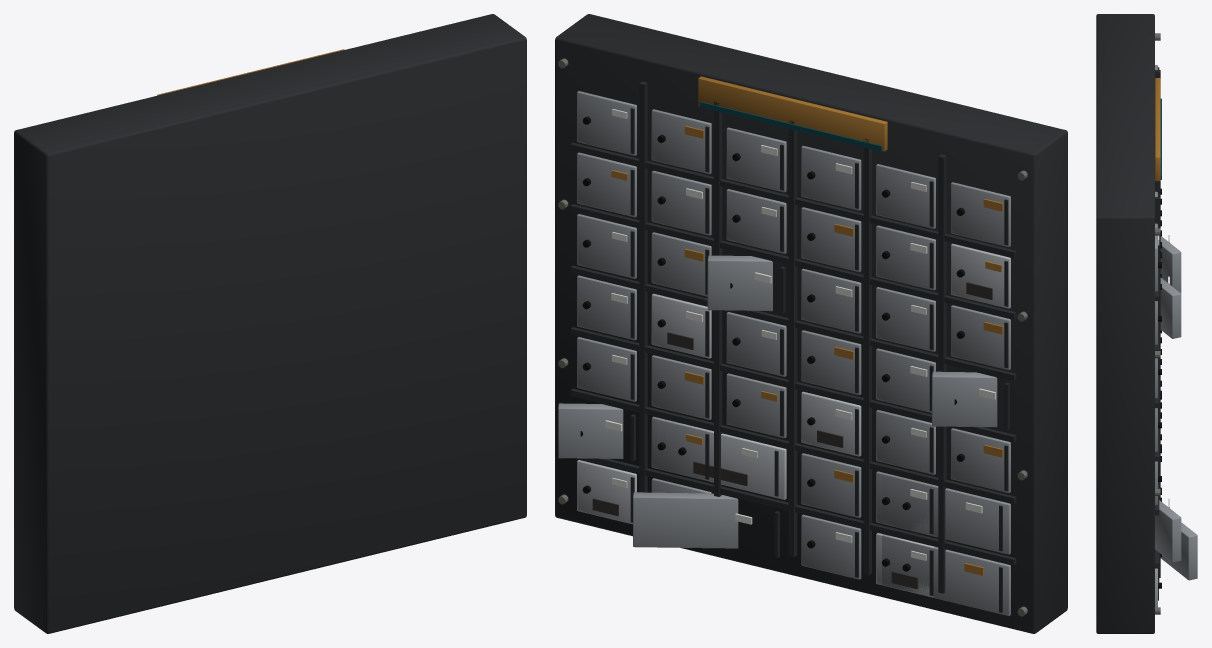
The model's file is hm_bank_deposit_boxes_v2.obj.
3 views of the same model, side by side, from view 1: azimuth 30°, elevation 25°; view 2: azimuth 150°, elevation 25°; view 3: azimuth 270°, elevation 25° (orthographic). The views are drawn at different scales.
Parts seen in each view (by area): view 1: DB_Frame; view 2: DB_Frame, DB_Door_3, DB_Door_6, DB_Door_0, DB_Plaque, DB_Div_3, DB_Div_2, DB_Div_5, DB_Rail_2, DB_Rail_6, DB_Rail_5, DB_Door_27 (+41 smaller); view 3: DB_Frame, DB_Door_11, DB_Door_27, DB_Door_3, DB_Door_18, DB_Div_5, DB_Plaque, DB_Door_41.
Part boxes in pixels (x1=…): DB_Frame: x1=14, y1=14, x2=526, y2=633; DB_Frame: x1=555, y1=14, x2=1067, y2=633; DB_Door_3: x1=633, y1=492, x2=738, y2=548; DB_Door_6: x1=882, y1=472, x2=1010, y2=554; DB_Door_0: x1=882, y1=534, x2=1010, y2=615; DB_Plaque: x1=698, y1=76, x2=887, y2=151; DB_Div_3: x1=788, y1=120, x2=797, y2=557; DB_Div_2: x1=863, y1=139, x2=871, y2=575; DB_Div_5: x1=639, y1=81, x2=647, y2=492; DB_Rail_2: x1=570, y1=388, x2=1016, y2=503; DB_Rail_6: x1=570, y1=142, x2=1016, y2=257; DB_Rail_5: x1=570, y1=204, x2=1016, y2=319; DB_Door_27: x1=707, y1=255, x2=772, y2=311; DB_Frame: x1=1096, y1=14, x2=1154, y2=633; DB_Door_11: x1=1155, y1=500, x2=1181, y2=562; DB_Door_27: x1=1160, y1=277, x2=1181, y2=338; DB_Door_3: x1=1160, y1=522, x2=1197, y2=580; DB_Door_18: x1=1160, y1=236, x2=1181, y2=293; DB_Div_5: x1=1155, y1=197, x2=1160, y2=577; DB_Plaque: x1=1155, y1=78, x2=1160, y2=181; DB_Door_41: x1=1155, y1=223, x2=1157, y2=291.
Size of the model in its own units: 1.8 by 1.72 by 0.3791.
